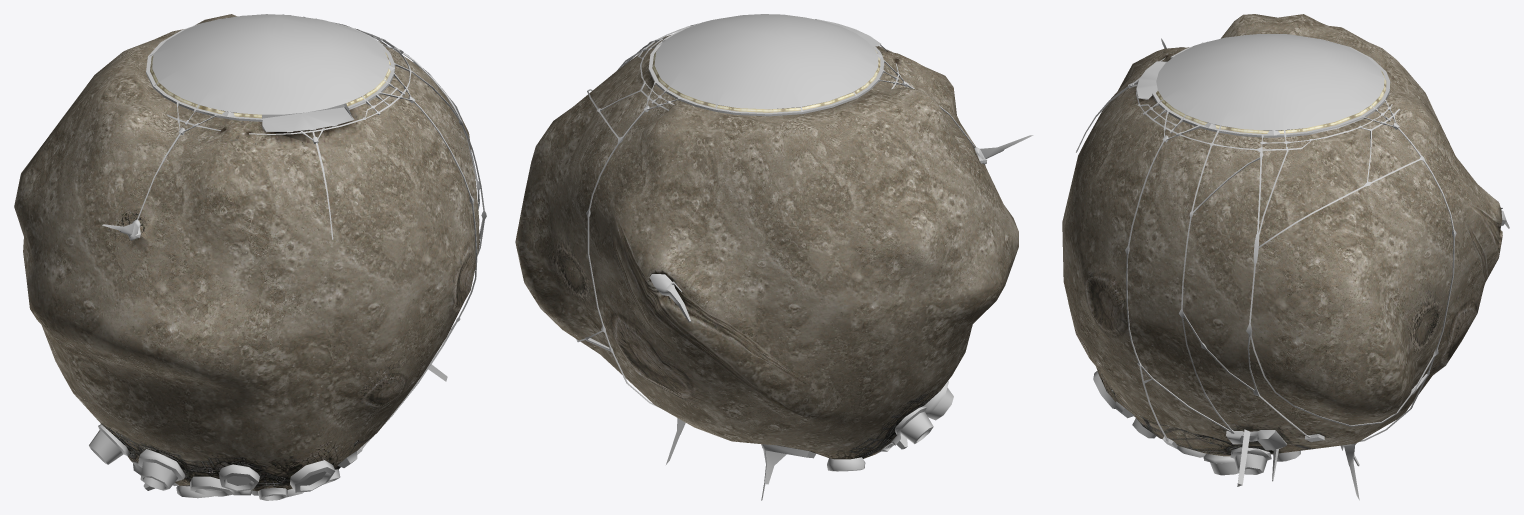
File: spacestation_pirate_asteroid_l1.fbx
3 views of the same model, side by side, from view 1: azimuth 30°, elevation 25°; view 2: azimuth 150°, elevation 25°; view 3: azimuth 270°, elevation 25° (orthographic). The views are drawn at different scales.
Visible parts, largest first — view 1: mesh_node; view 2: mesh_node; view 3: mesh_node.
Boxes of the visible parts, left/top/right/bottom form: mesh_node: left=14, top=14, right=486, bottom=500; mesh_node: left=515, top=14, right=1033, bottom=500; mesh_node: left=1062, top=14, right=1509, bottom=500.
Size of the model in its own units: 537 by 504 by 473.
